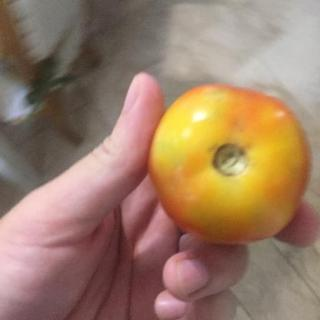Tomat: (145, 64, 315, 253)
